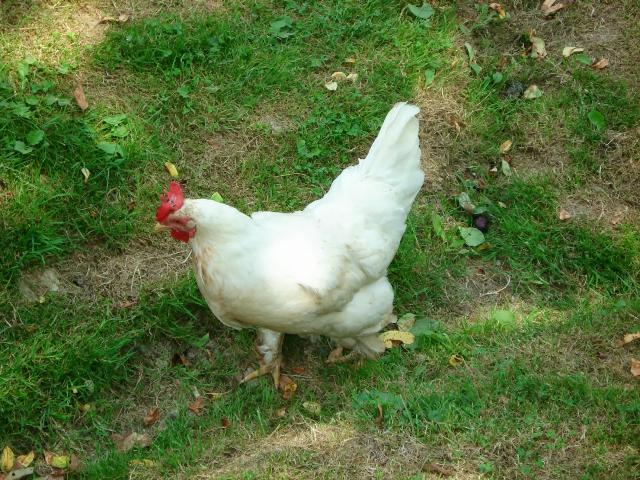Chicken: (152, 102, 427, 384)
